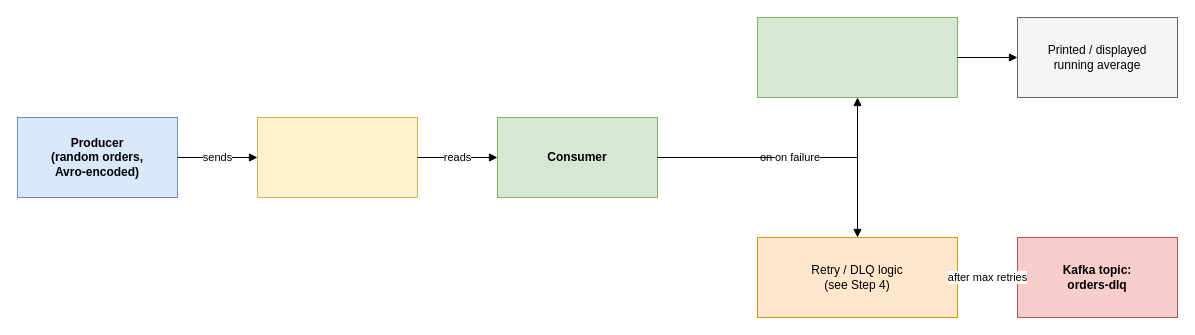
The diagram is 1195 pixels wide and 335 high, and some of its shapes have lost their labels. Each missing label, with the centre of its shape:
Kafka topic: orders: point 337,157
Running Average Calculator (updates per message): point 857,57
